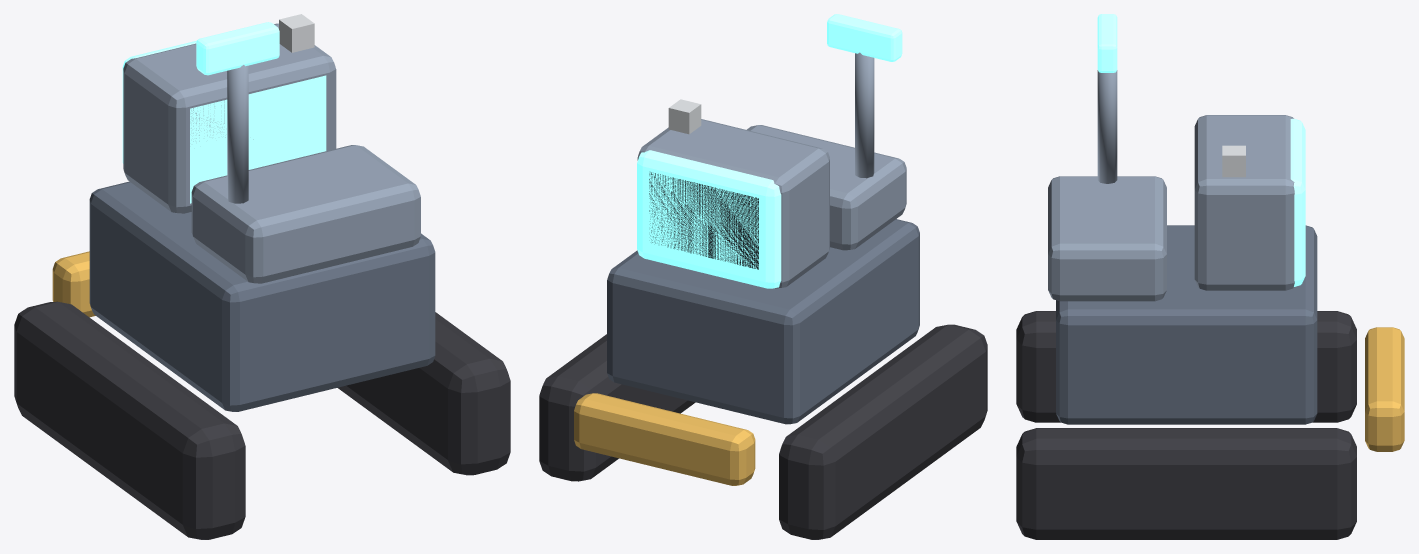
The model's file is robot_explorador.glb.
3 views of the same model, side by side, from view 1: azimuth 30°, elevation 25°; view 2: azimuth 150°, elevation 25°; view 3: azimuth 270°, elevation 25° (orthographic). The views are drawn at different scales.
Visible parts, largest first — view 1: chasis, oruga_i, tolva, carcasa_cabeza, oruga_d, cabeza, radar, mastil, pala, luz_estado; view 2: chasis, oruga_i, cabeza, carcasa_cabeza, pala, oruga_d, tolva, pantalla, radar, mastil, luz_estado; view 3: oruga_d, chasis, carcasa_cabeza, tolva, oruga_i, pala, mastil, cabeza, radar, luz_estado.
Part boxes in pixels (box(x1,y1,x2,y2)): chasis: box(89, 181, 435, 411); oruga_i: box(14, 301, 245, 539); tolva: box(191, 145, 420, 283); carcasa_cabeza: box(123, 23, 336, 213); oruga_d: box(337, 312, 510, 475); cabeza: box(122, 23, 326, 203); radar: box(196, 22, 279, 75); mastil: box(227, 65, 248, 203); pala: box(52, 251, 95, 317); luz_estado: box(279, 14, 314, 52); chasis: box(607, 219, 919, 424); oruga_i: box(779, 324, 987, 539); cabeza: box(637, 150, 781, 288); carcasa_cabeza: box(637, 119, 829, 288); pala: box(574, 393, 755, 485); oruga_d: box(539, 334, 695, 481); tolva: box(746, 125, 906, 250); pantalla: box(649, 172, 758, 269); radar: box(827, 14, 902, 61); mastil: box(855, 52, 874, 178); luz_estado: box(668, 99, 701, 134); oruga_d: box(1016, 428, 1356, 539); chasis: box(1056, 225, 1317, 424); carcasa_cabeza: box(1194, 115, 1294, 290); tolva: box(1048, 176, 1166, 301); oruga_i: box(1016, 311, 1356, 422); pala: box(1365, 327, 1404, 451); mastil: box(1097, 70, 1117, 183); cabeza: box(1290, 118, 1305, 286); radar: box(1097, 14, 1117, 72); luz_estado: box(1222, 145, 1245, 177).
Size of the model in its own units: 0.86 by 1.16 by 0.98.
